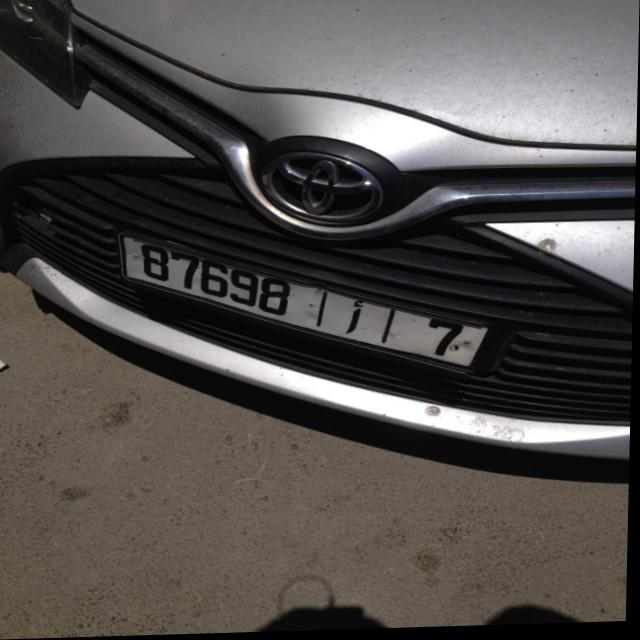License-Plate: (122, 236, 489, 369)
